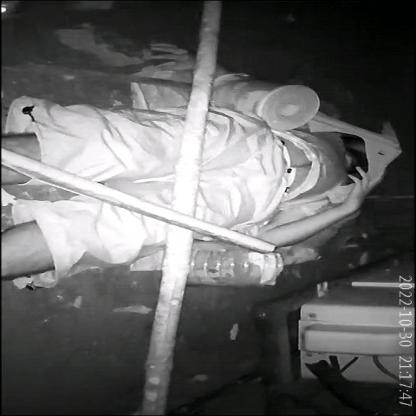hand: (258, 164, 387, 252), (144, 34, 196, 76)
